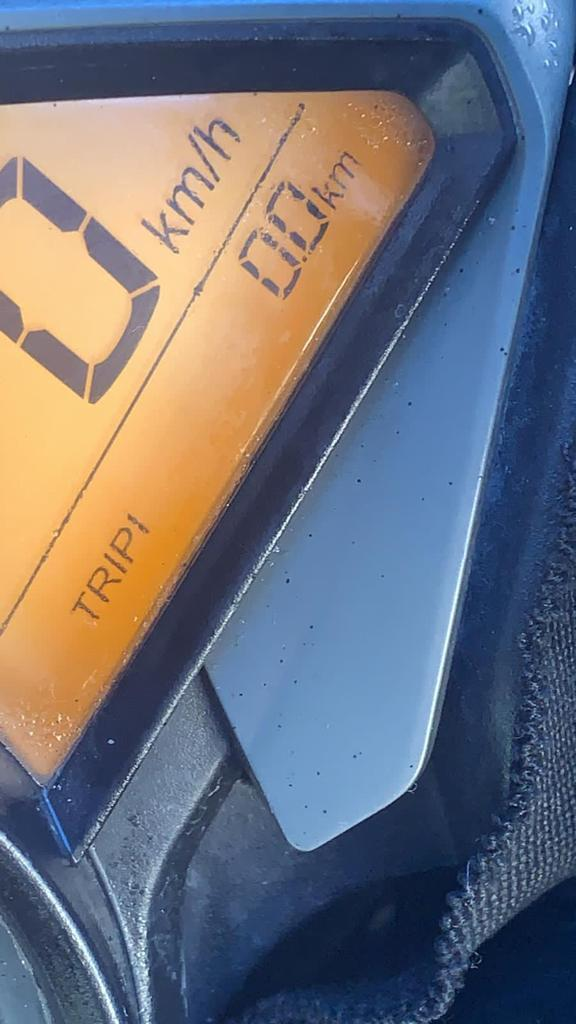,: (299, 252, 309, 263)
0: (0, 137, 163, 401), (265, 180, 332, 253), (236, 228, 301, 303)
1: (125, 506, 155, 535)
X: (158, 165, 218, 225), (137, 209, 193, 259), (182, 130, 225, 186), (192, 114, 244, 159), (84, 565, 124, 602), (308, 177, 347, 211), (330, 148, 363, 188), (108, 529, 143, 563), (64, 590, 100, 623), (96, 549, 129, 579)
odometer: (0, 75, 462, 794)
